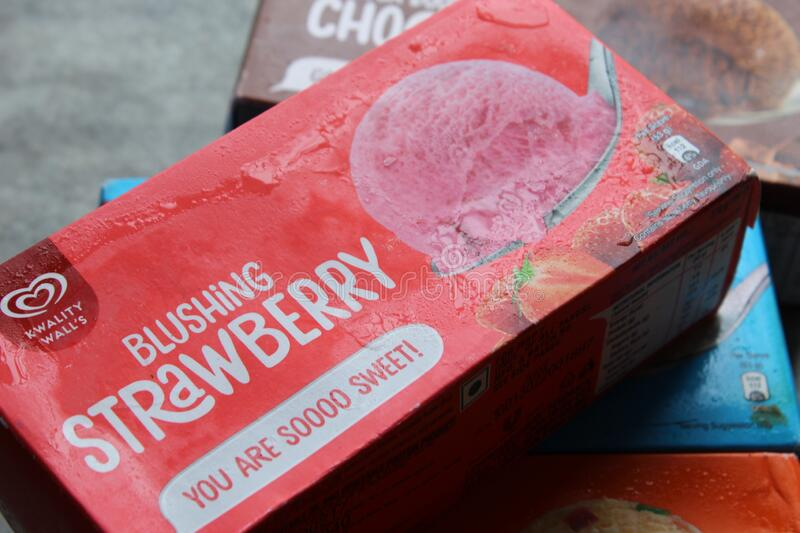Kwality_Walls: (1, 252, 77, 333)
